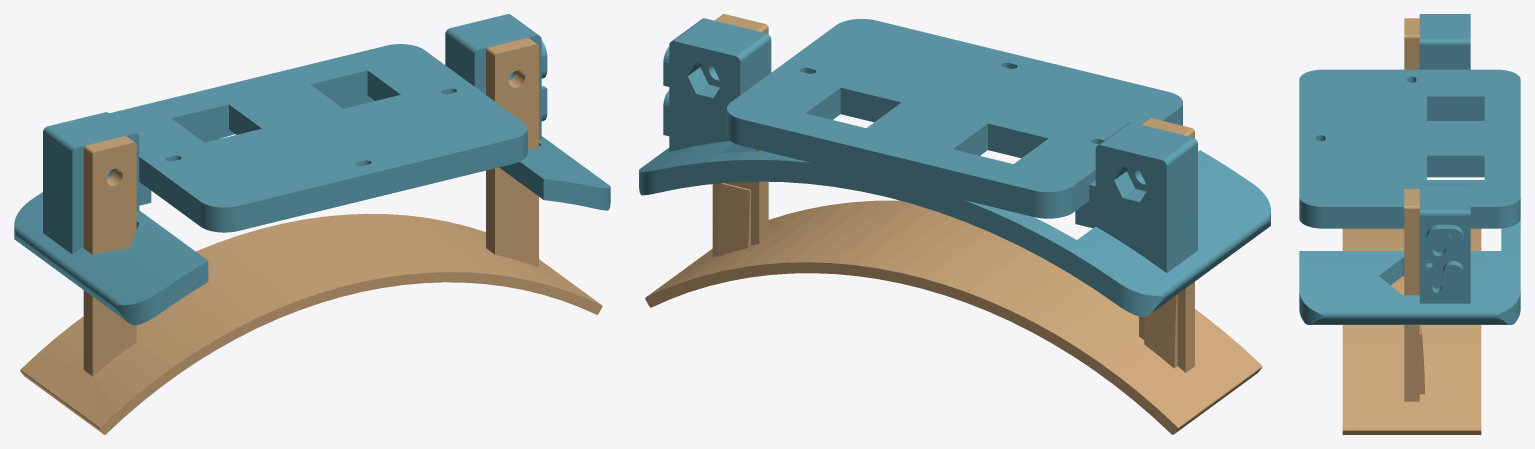
The model's file is assembly.glb.
3 views of the same model, side by side, from view 1: azimuth 30°, elevation 25°; view 2: azimuth 150°, elevation 25°; view 3: azimuth 270°, elevation 25° (orthographic). The views are drawn at different scales.
Parts seen in each view (by area): view 1: base_appoggi, ponte_centrato; view 2: base_appoggi, ponte_centrato; view 3: base_appoggi, ponte_centrato.
Boxes of the visible parts, <box> form: base_appoggi: <box>14,14,610,325</box>; ponte_centrato: <box>20,38,602,434</box>; base_appoggi: <box>639,18,1270,316</box>; ponte_centrato: <box>645,14,1262,434</box>; base_appoggi: <box>1299,14,1520,324</box>; ponte_centrato: <box>1342,18,1481,434</box>.
Size of the model in its own units: 0.105 by 0.05 by 0.046.
